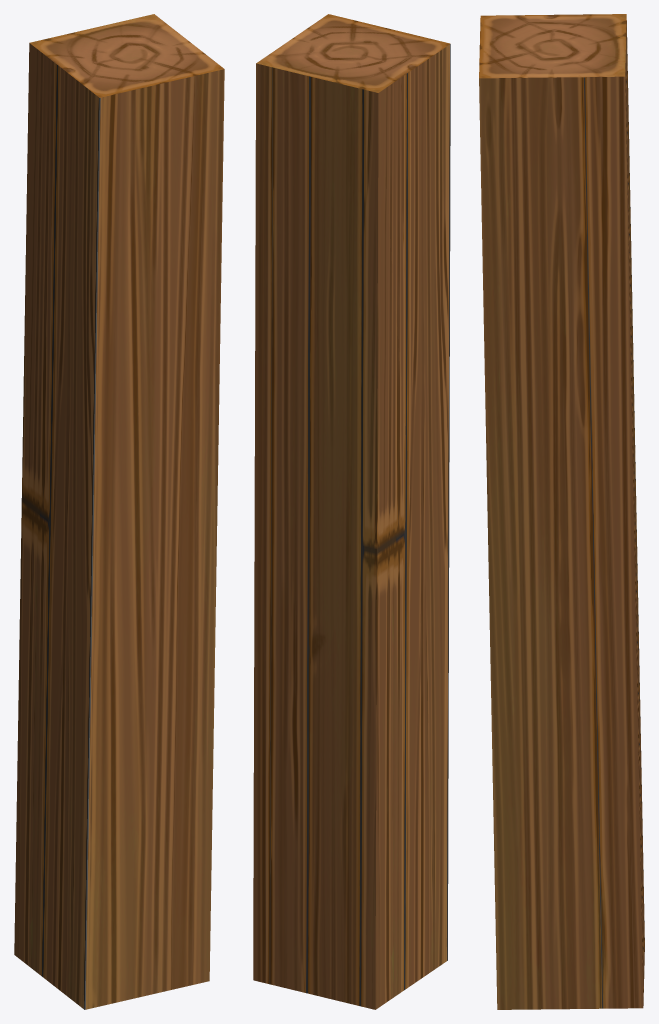
The picture shows the model from 3 angles, left to right: view 1: azimuth 30°, elevation 25°; view 2: azimuth 150°, elevation 25°; view 3: azimuth 270°, elevation 25°; orthographic projection. The views are drawn at different scales.
Parts seen in each view (by area): view 1: Cube.775; view 2: Cube.775; view 3: Cube.775.
Part boxes in pixels (x1,y1,x2,y2): Cube.775: (14, 14, 224, 1009); Cube.775: (253, 14, 450, 1009); Cube.775: (479, 14, 644, 1009).
Size of the model in its own units: 24.93 by 167 by 26.72.
Materials: 1 (1 with a texture image).
